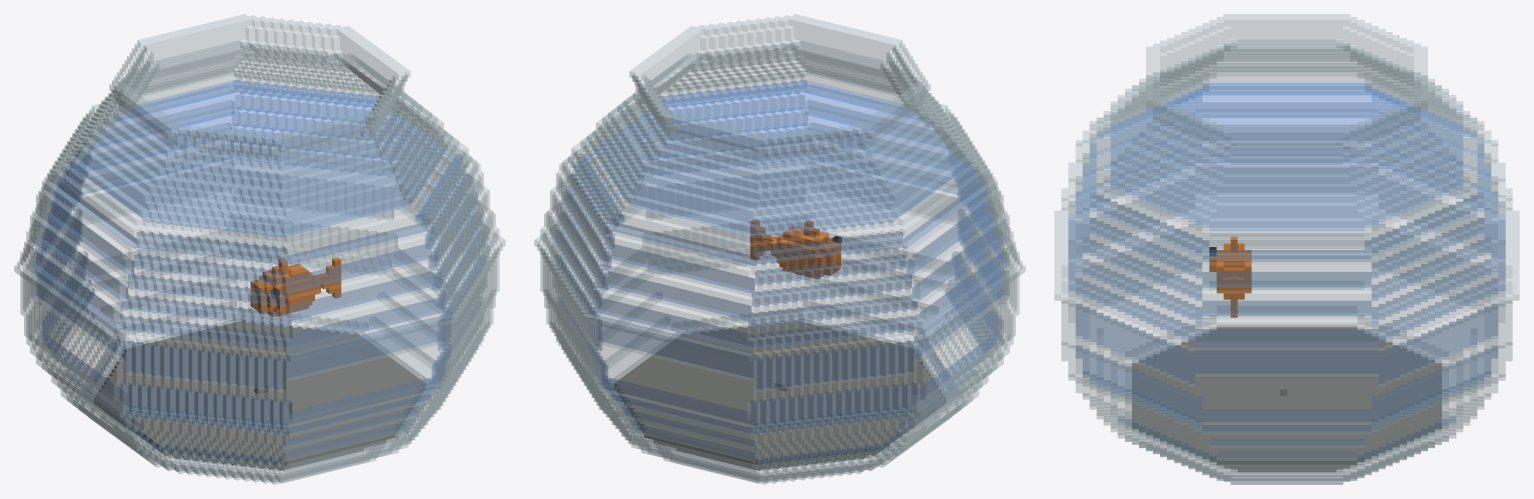
The model's file is fish_bowl.glb.
3 views of the same model, side by side, from view 1: azimuth 30°, elevation 25°; view 2: azimuth 150°, elevation 25°; view 3: azimuth 270°, elevation 25° (orthographic). The views are drawn at different scales.
Parts seen in each view (by area): view 1: fish_bowl:compound; view 2: fish_bowl:compound; view 3: fish_bowl:compound.
Boxes of the visible parts, x1,y1,x2,y2 form: fish_bowl:compound: (14,14,505,484); fish_bowl:compound: (534,14,1025,484); fish_bowl:compound: (1054,14,1519,484).
Bounding box in the file's own units: 0.264 × 0.224 × 0.264.
